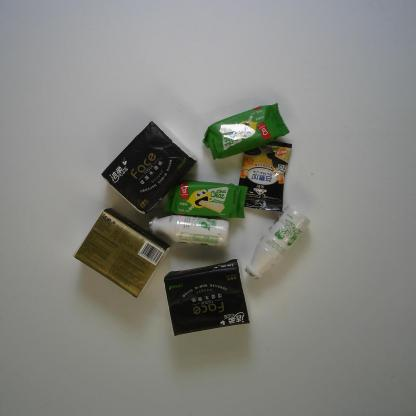Dessert: (202, 101, 290, 161), (162, 179, 249, 219)
Instant Drink: (238, 140, 293, 213)
Milk: (243, 205, 311, 281), (147, 214, 230, 248)
Tissue: (100, 118, 199, 217), (72, 206, 172, 300), (163, 258, 251, 336)
